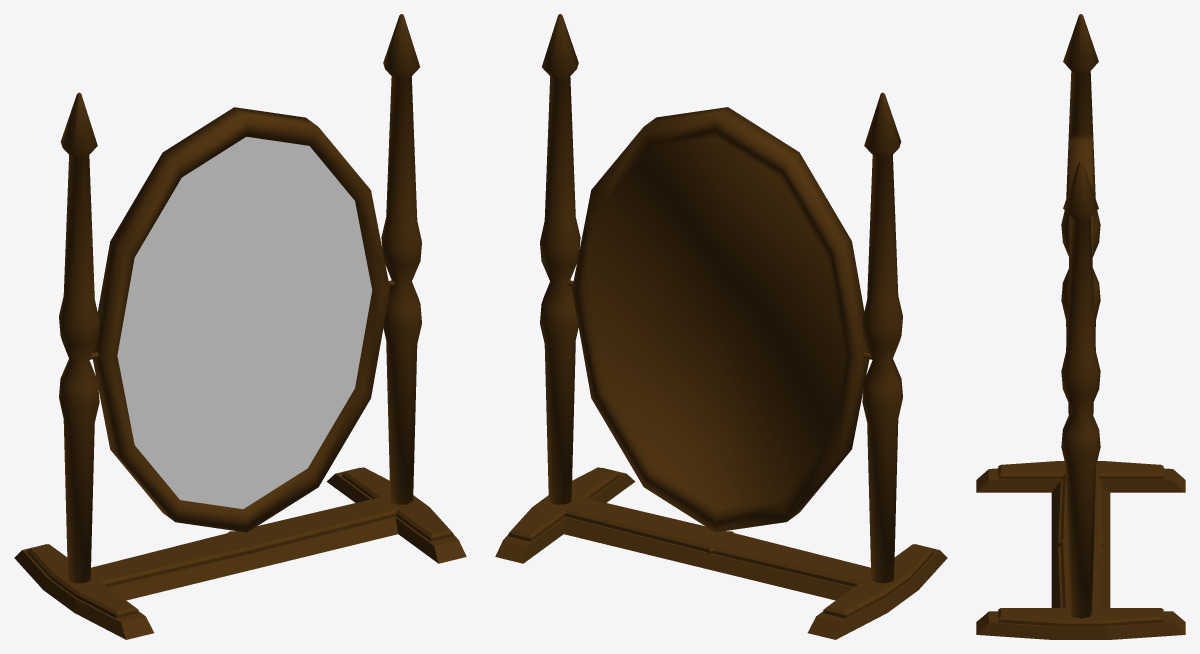
Rendered from Espelho 1.fbx.
3 renders of one model, left to right at view 1: azimuth 30°, elevation 25°; view 2: azimuth 150°, elevation 25°; view 3: azimuth 270°, elevation 25°, orthographic. The views are drawn at different scales.
Parts seen in each view (by area): view 1: Espelho.002, Barras, Base; view 2: Espelho.002, Barras, Base; view 3: Barras, Base, Espelho.002.
Part boxes in pixels (box(x1,y1,x2,y2)): Espelho.002: box(92, 107, 390, 532); Barras: box(59, 14, 421, 583); Base: box(14, 467, 466, 639); Espelho.002: box(572, 107, 869, 532); Barras: box(540, 14, 902, 583); Base: box(495, 467, 947, 639); Barras: box(1061, 14, 1100, 618); Base: box(976, 461, 1185, 639); Espelho.002: box(1069, 135, 1092, 413).
Bounding box in the file's own units: 58.59 × 77.76 × 31.37.
